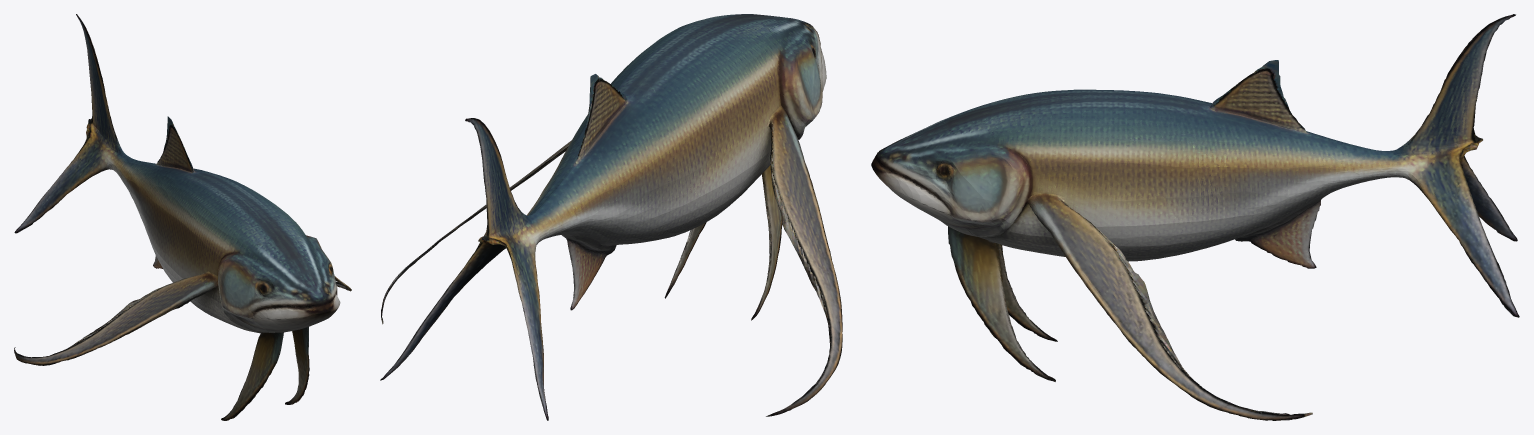
3 views of the same model, side by side, from view 1: azimuth 30°, elevation 25°; view 2: azimuth 150°, elevation 25°; view 3: azimuth 270°, elevation 25° (orthographic). The views are drawn at different scales.
Parts seen in each view (by area): view 1: world; view 2: world; view 3: world.
Part boxes in pixels (x1=…): world: x1=14, y1=14, x2=351, y2=420; world: x1=380, y1=14, x2=842, y2=420; world: x1=871, y1=14, x2=1519, y2=420.
Bounding box in the file's own units: 0.6507 × 0.5337 × 0.9.
Materials: 1 (1 with a texture image).
